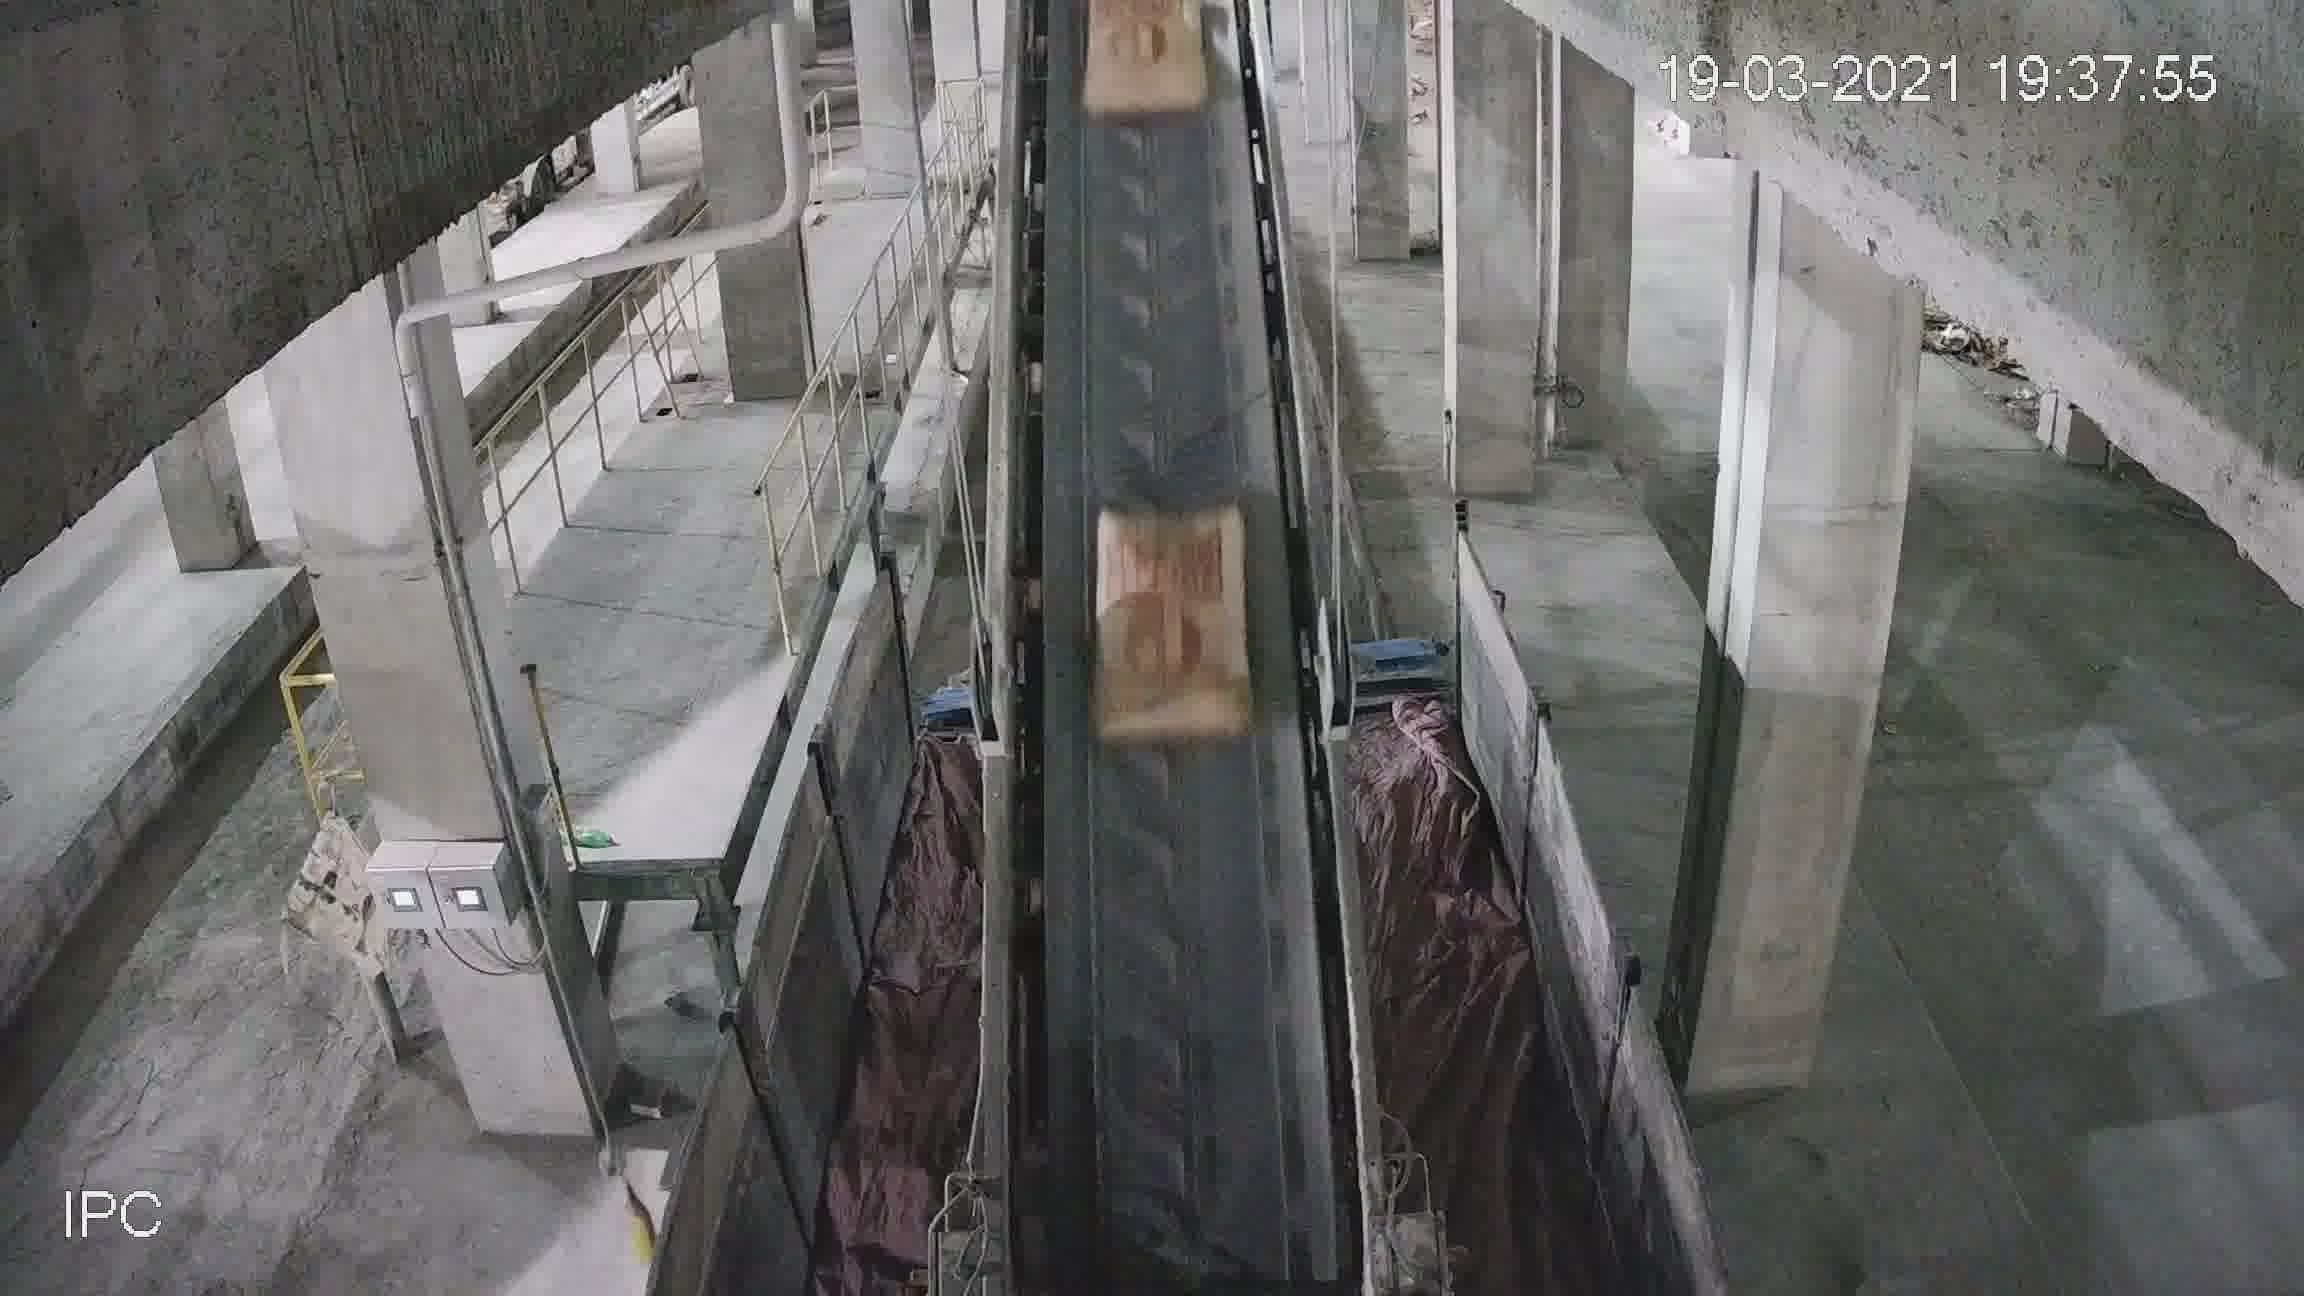bag: (1098, 502, 1253, 734), (1084, 8, 1211, 111)
belt: (991, 43, 1323, 1052)
